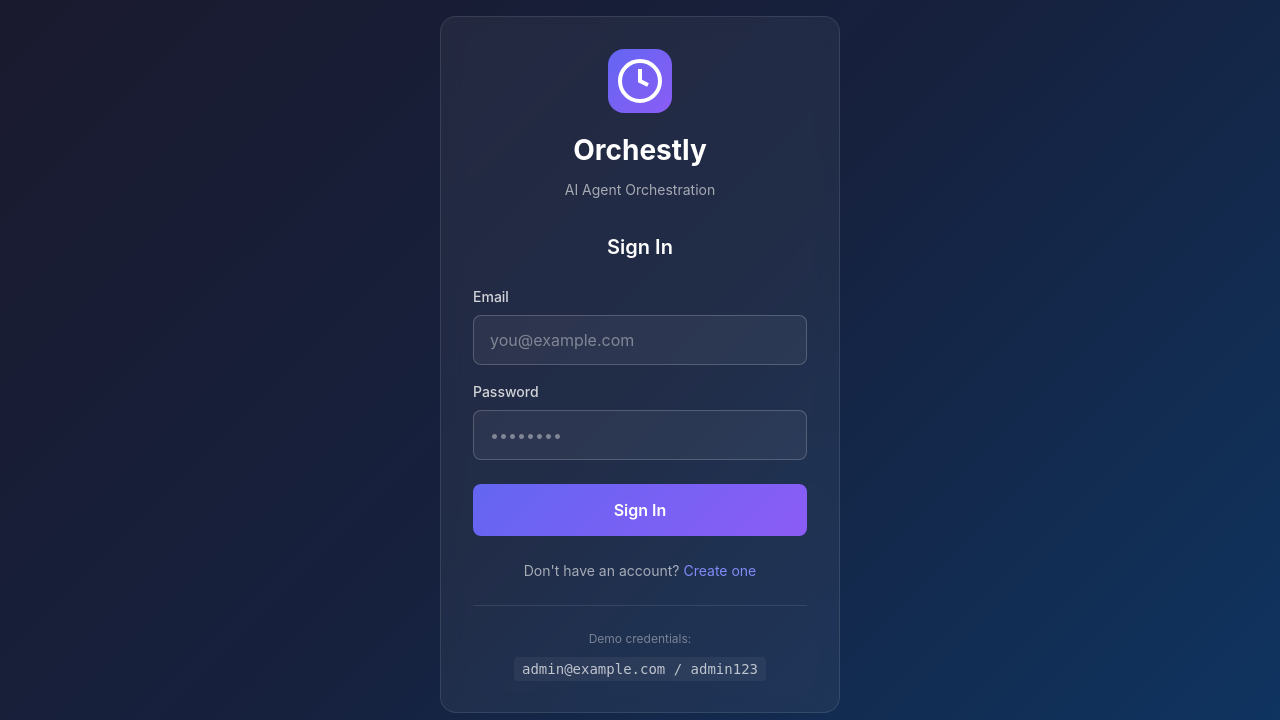
Test: LoginPage › Login Form › displays error on login failure
The image size is (1280, 720).
Type "bad@example.com" into the field labelled "Email" at {"x": 640, "y": 340}, box [473,315,807,365]
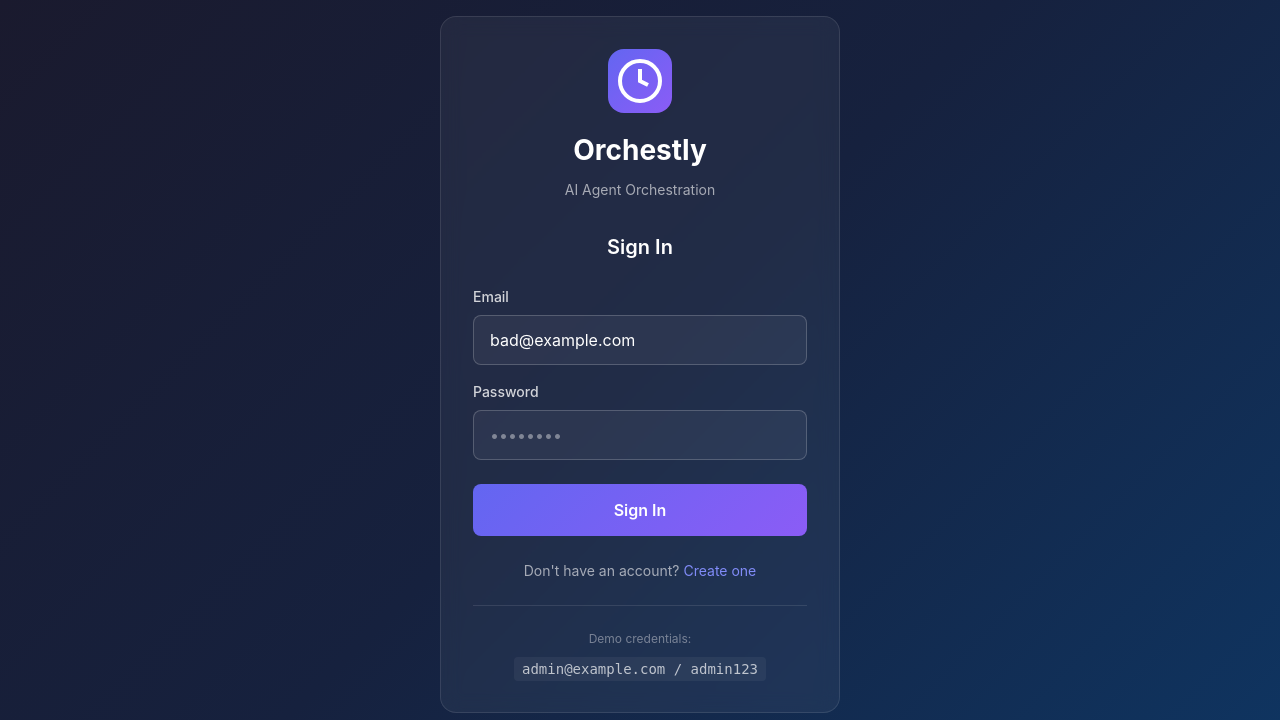
Type "wrong" into the password field labelled "Password" at {"x": 640, "y": 435}, box [473,410,807,460]
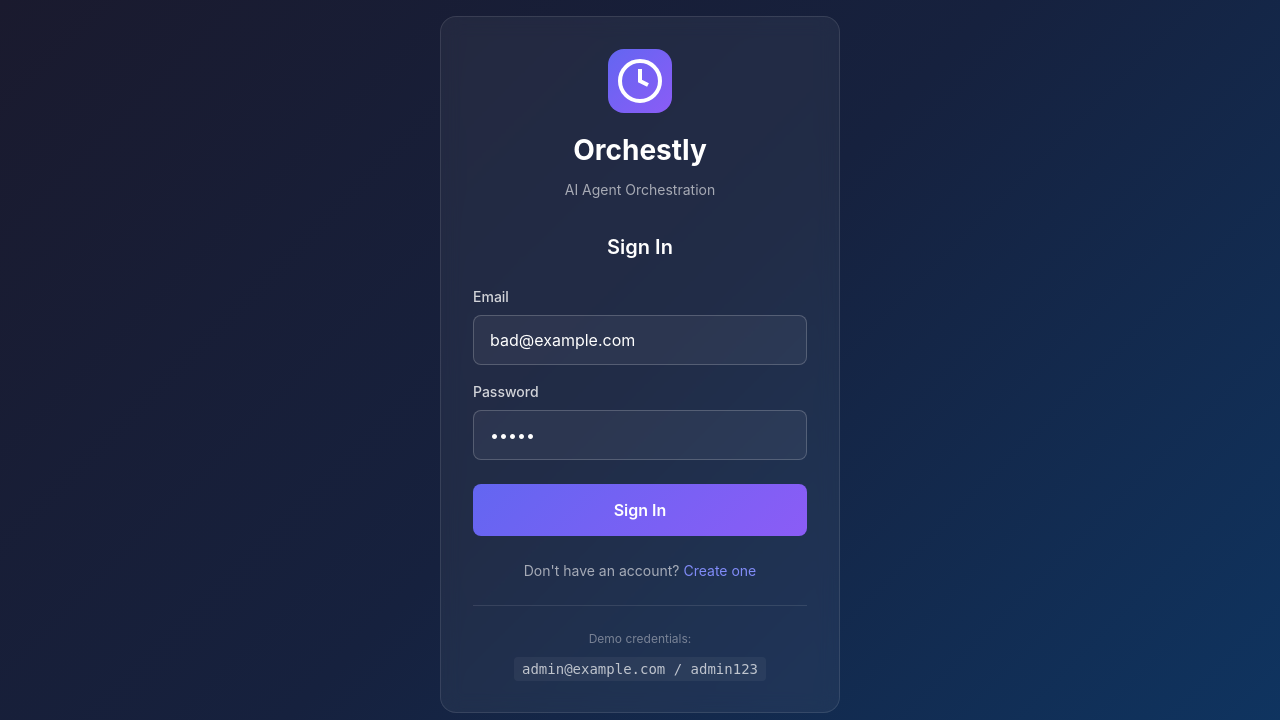
Submit the form labelled "Email", box [473,232,807,536]
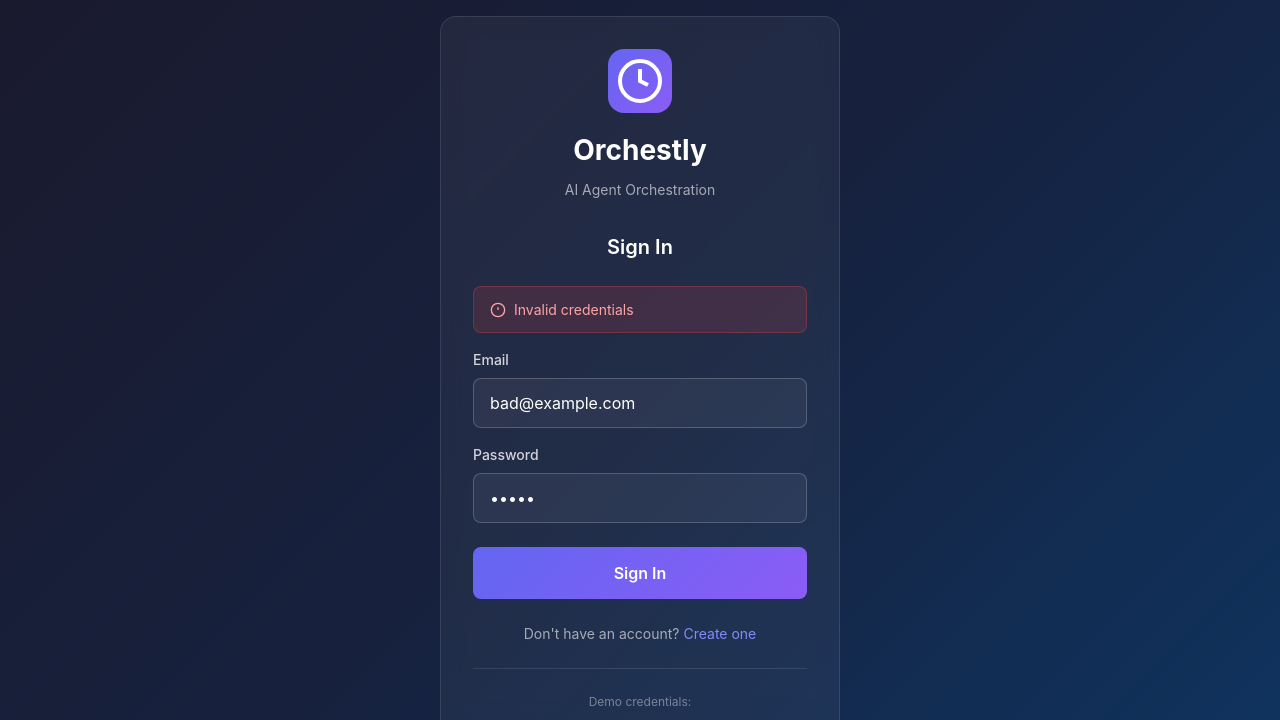
Result: the text "Invalid credentials" is shown at [473,286,807,333]
